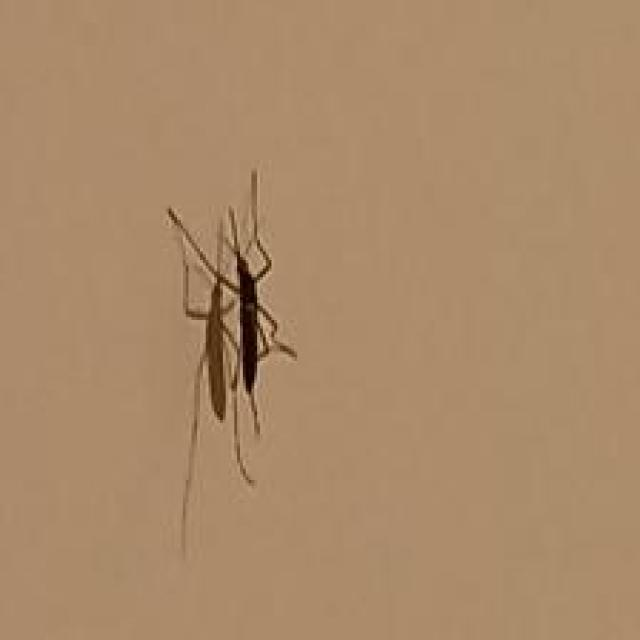Aedes albopictus: (163, 167, 297, 556)
